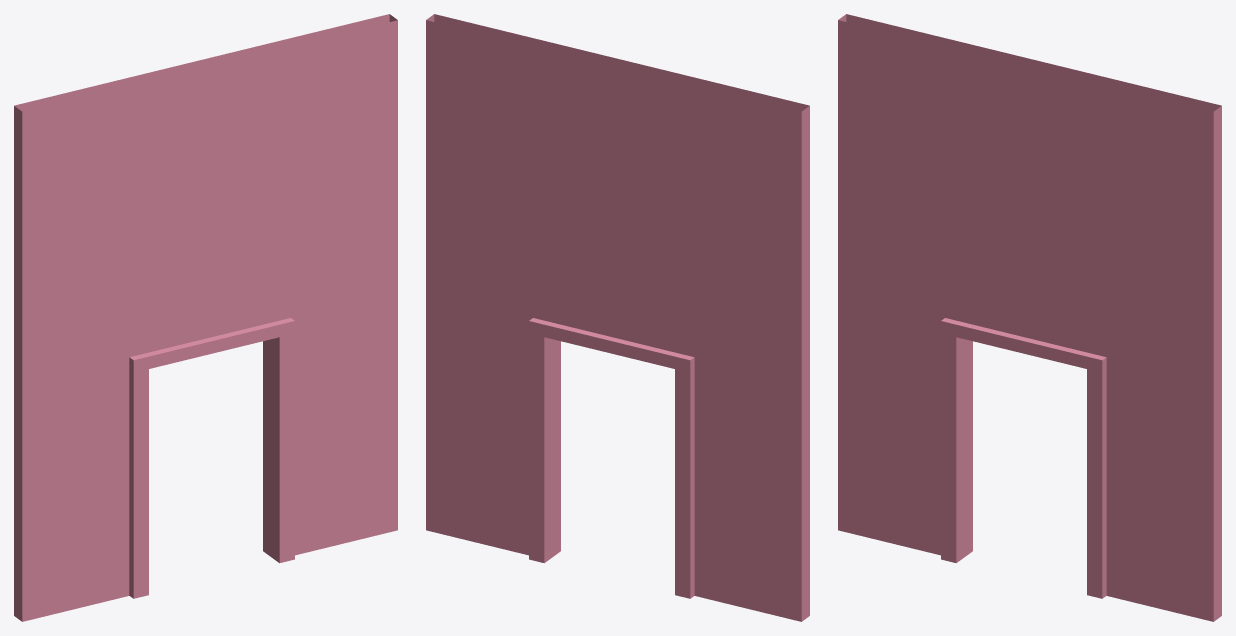
The model's file is Door_Frame_Tall.FBX.
3 views of the same model, side by side, from view 1: azimuth 30°, elevation 25°; view 2: azimuth 150°, elevation 25°; view 3: azimuth 330°, elevation 25° (orthographic).
Visible parts, largest first — view 1: Door_Frame_Tall; view 2: Door_Frame_Tall; view 3: Door_Frame_Tall.
Boxes of the visible parts, <box> form: Door_Frame_Tall: <box>14,14,397,621</box>; Door_Frame_Tall: <box>426,14,809,621</box>; Door_Frame_Tall: <box>838,14,1221,621</box>.
Size of the model in its own units: 5.04 by 6.54 by 0.3873.
